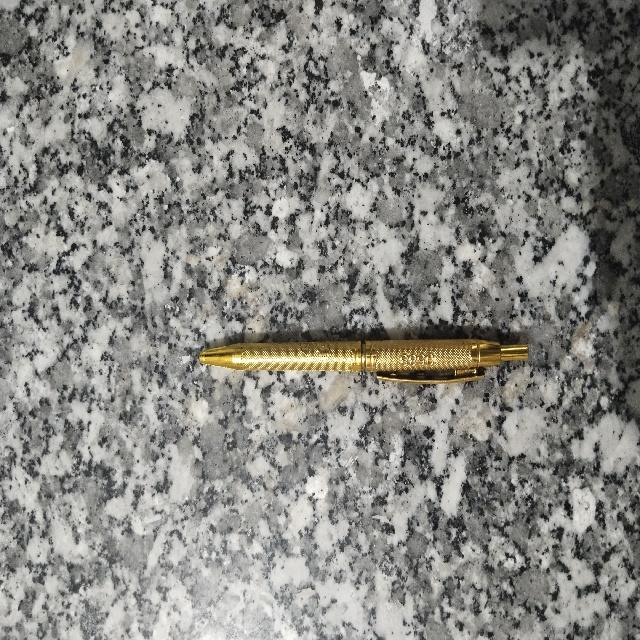signature pen: (199, 339, 527, 383)
